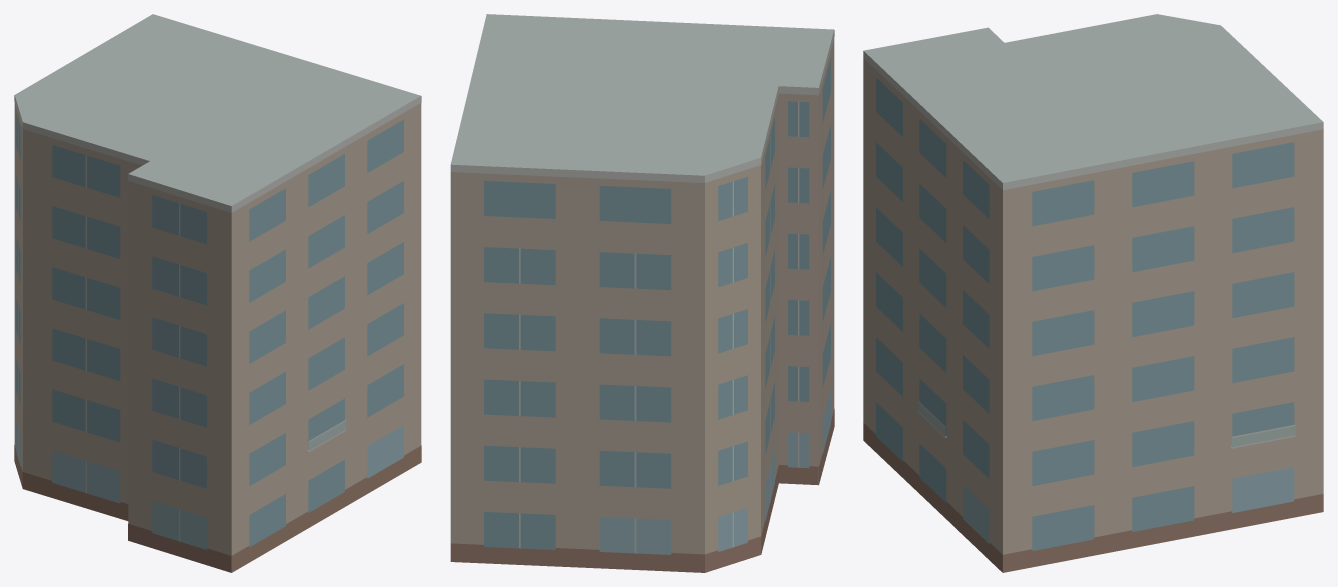
Rendered from survey-upis-32881630.glb.
3 renders of one model, left to right at view 1: azimuth 30°, elevation 25°; view 2: azimuth 150°, elevation 25°; view 3: azimuth 270°, elevation 25°, orthographic. The views are drawn at different scales.
Parts seen in each view (by area): view 1: survey-upis-32881630.tmp; view 2: survey-upis-32881630.tmp; view 3: survey-upis-32881630.tmp.
Part boxes in pixels (box(x1,y1,x2,y2)): survey-upis-32881630.tmp: box(14, 14, 421, 572); survey-upis-32881630.tmp: box(450, 14, 834, 572); survey-upis-32881630.tmp: box(863, 14, 1323, 572).
Size of the model in its own units: 12.29 by 13.2 by 14.14.
